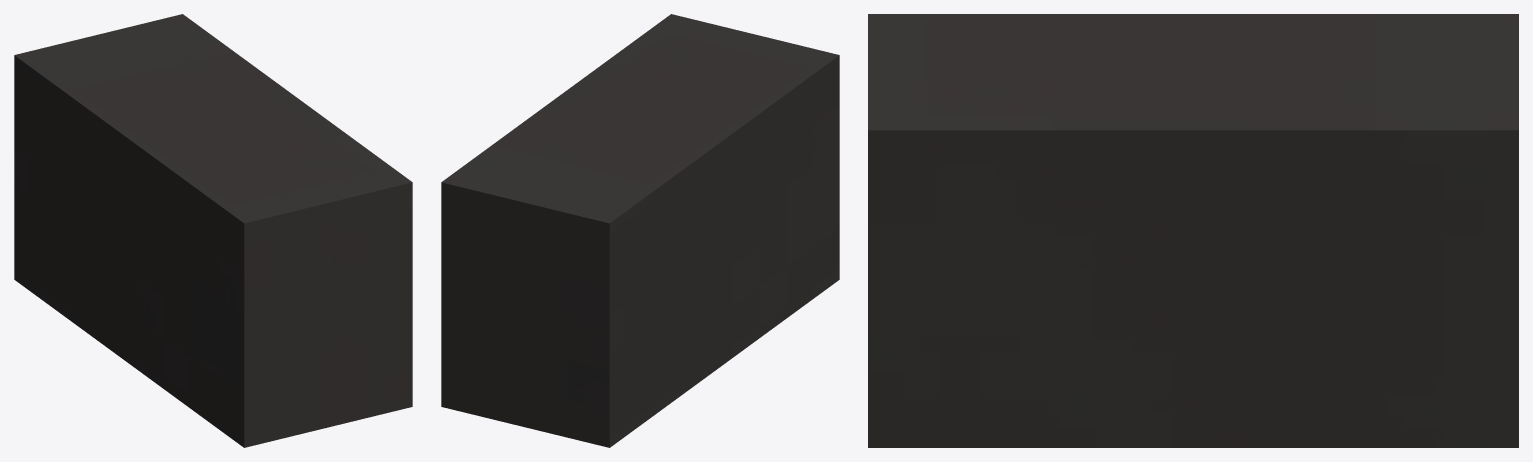
The model's file is frame__roller_upright.glb.
3 views of the same model, side by side, from view 1: azimuth 30°, elevation 25°; view 2: azimuth 150°, elevation 25°; view 3: azimuth 270°, elevation 25° (orthographic). The views are drawn at different scales.
Parts seen in each view (by area): view 1: world; view 2: world; view 3: world.
Boxes of the visible parts, bbox=[...] form: world: bbox=[14, 14, 412, 447]; world: bbox=[441, 14, 839, 447]; world: bbox=[868, 14, 1518, 447].
Size of the model in its own units: 0.055 by 0.07 by 0.13.
1 material, 1 textured.
